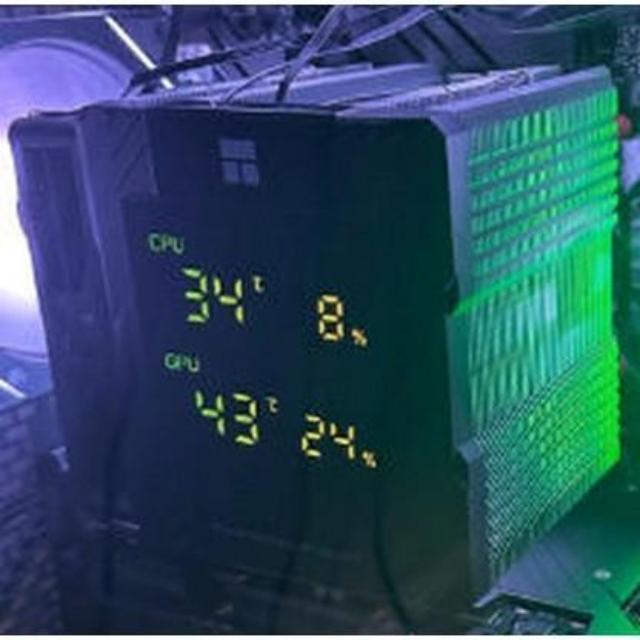CPU_Fan: (50, 75, 625, 578)
